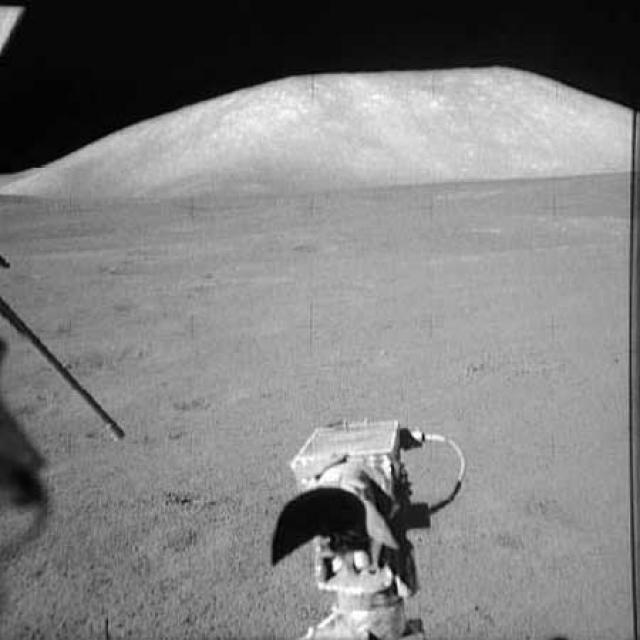artifact: (260, 407, 474, 639), (0, 242, 144, 454)
